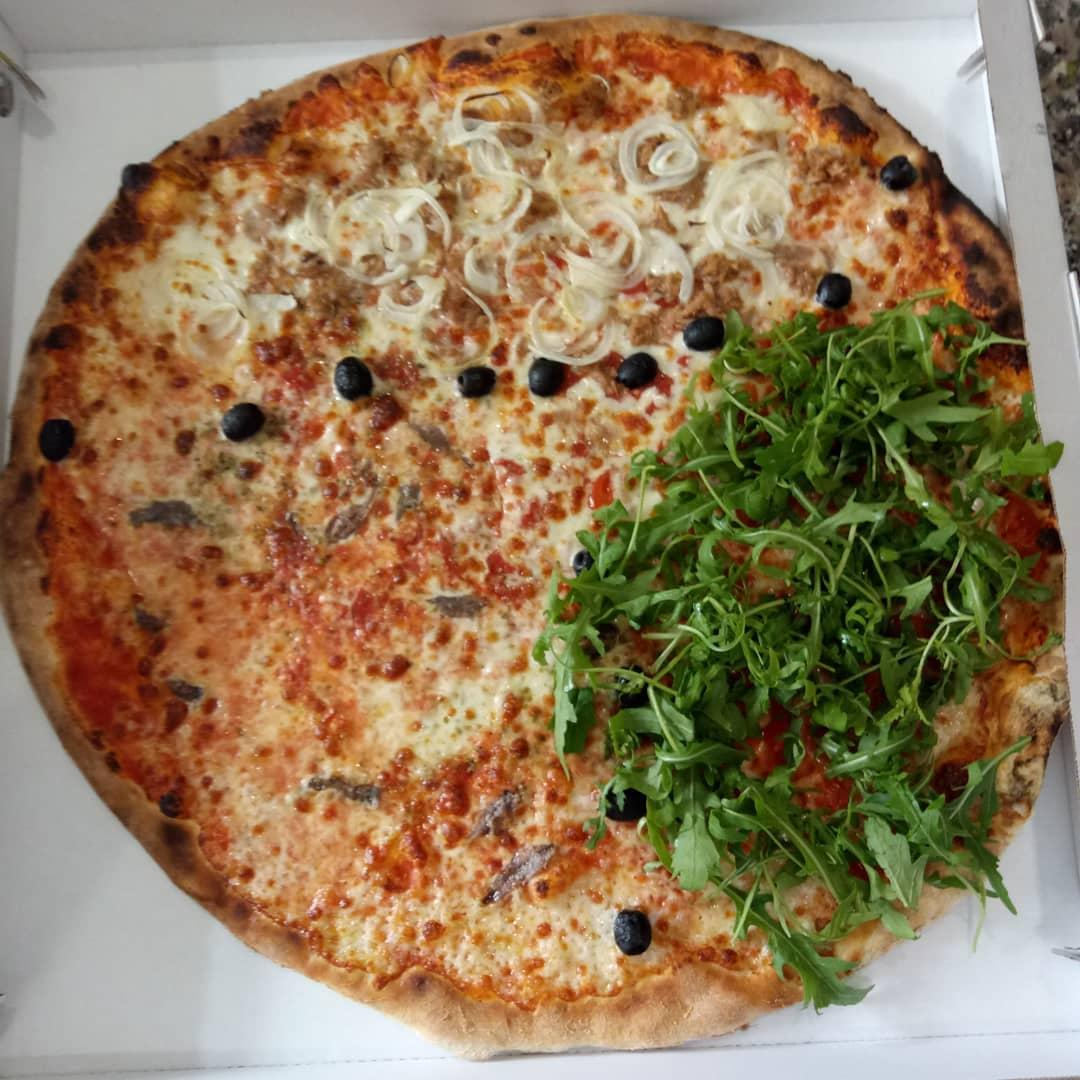Arugula: (710, 575, 1029, 1010), (728, 307, 1054, 593), (544, 411, 731, 780), (634, 775, 729, 896)
Olives: (603, 901, 658, 965), (591, 778, 655, 829), (31, 411, 83, 470), (326, 356, 383, 404), (524, 353, 574, 406), (611, 349, 664, 398), (215, 399, 269, 447), (809, 266, 860, 315), (451, 355, 498, 408), (682, 308, 734, 354), (876, 147, 923, 191), (570, 545, 601, 578)
Onion: (446, 80, 605, 251), (275, 175, 458, 287), (523, 194, 698, 309), (161, 224, 299, 364), (371, 243, 527, 357), (697, 152, 799, 269), (612, 110, 706, 192), (523, 294, 615, 369)
Pizza: (0, 13, 1065, 1053)
